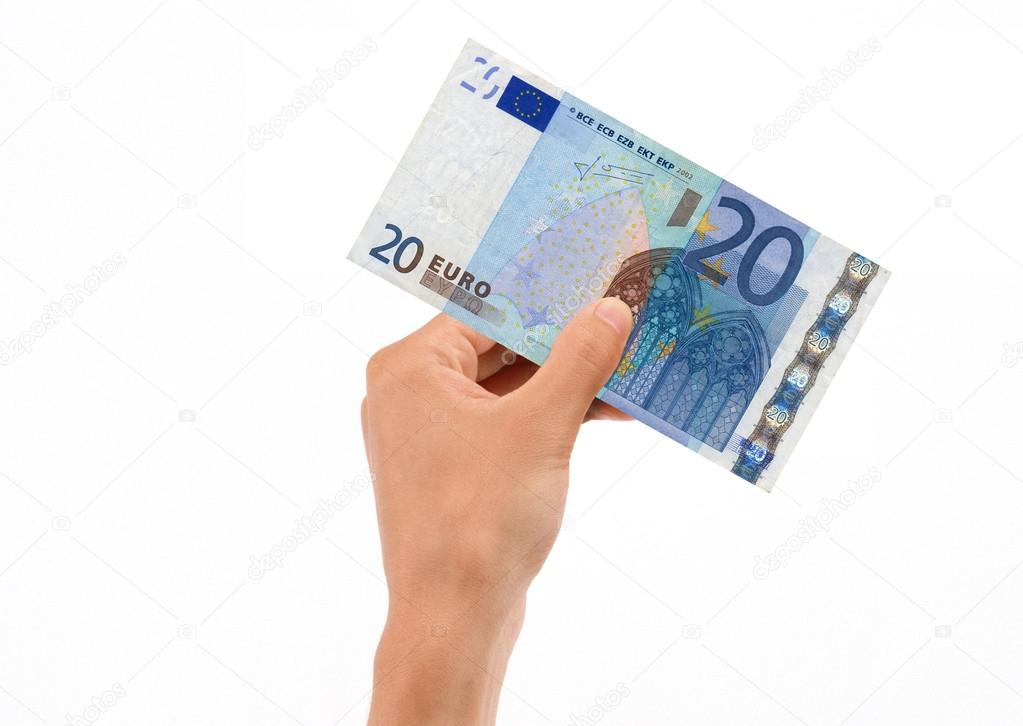billete: (344, 35, 895, 494)
